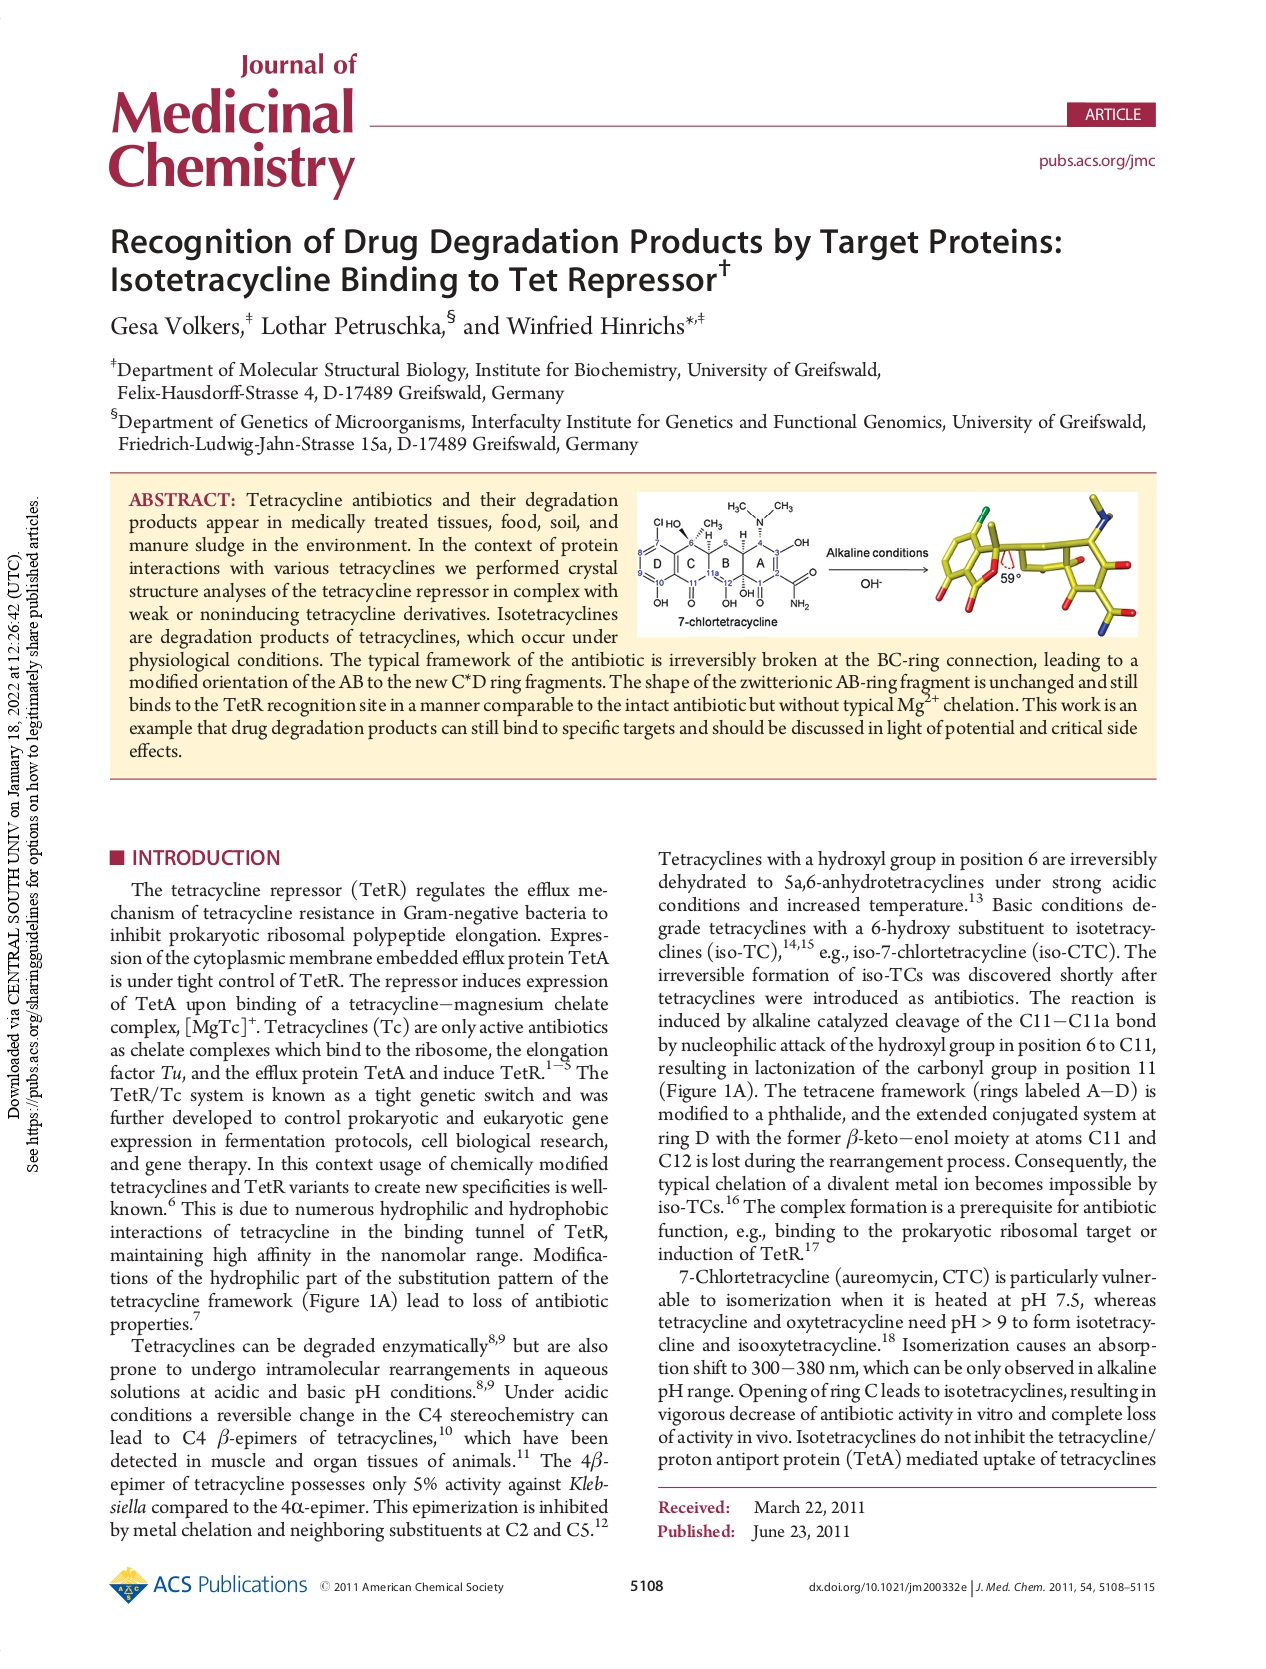exist_molecular: (637, 497, 821, 612)
